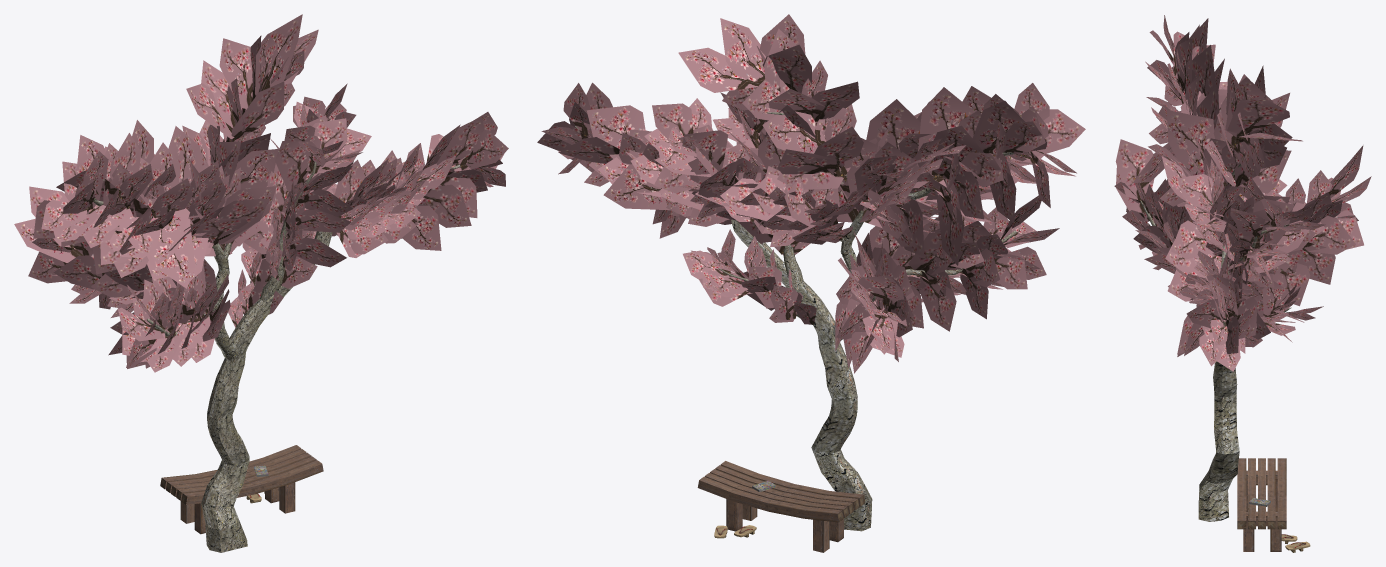
File: Prop_Tree.fbx
3 views of the same model, side by side, from view 1: azimuth 30°, elevation 25°; view 2: azimuth 150°, elevation 25°; view 3: azimuth 270°, elevation 25° (orthographic). The views are drawn at different scales.
Parts seen in each view (by area): view 1: Loft002, Box002, Plane525, Plane531, Plane207, Plane336, Plane522, Plane402, Plane542, Plane226, Plane115, Plane171 (+30 smaller); view 2: Loft002, Box002, Plane522, Plane527, Plane090, Plane202, Plane209, Plane534, Plane115, Plane073, Plane525, Plane539 (+34 smaller); view 3: Loft002, Box002, Plane348, Plane522, Plane022, Plane457, Plane401, Plane456, Plane395, Plane090, Plane469, Plane083 (+41 smaller).
Boxes of the visible parts, x1,y1,x2,y2 form: Loft002: (93,161,466,552); Box002: (160,445,323,534); Plane525: (219,38,252,108); Plane531: (231,81,284,140); Plane207: (421,184,471,227); Plane336: (146,218,195,288); Plane522: (261,14,302,90); Plane402: (275,141,316,191); Plane542: (224,149,278,189); Plane226: (402,205,441,250); Plane115: (168,126,203,224); Plane171: (436,116,484,166); Loft002: (575,112,1016,531); Box002: (697,461,865,552); Plane522: (720,18,766,83); Plane527: (678,47,759,92); Plane090: (916,87,974,175); Plane202: (586,105,645,165); Plane209: (603,164,670,210); Plane534: (762,111,826,163); Plane115: (866,99,920,149); Plane073: (972,100,1024,153); Plane525: (762,44,811,93); Plane539: (814,126,863,176); Loft002: (1140,163,1291,521); Box002: (1237,458,1286,551); Plane348: (1167,110,1214,176); Plane522: (1227,96,1289,134); Plane022: (1115,139,1153,200); Plane457: (1308,215,1355,254); Plane401: (1171,220,1214,259); Plane456: (1300,242,1335,284); Plane395: (1177,174,1216,215); Plane090: (1192,45,1215,96); Plane469: (1278,260,1310,306); Plane083: (1175,38,1192,102).
Bounding box in the file's own units: 482 × 457 × 228.
